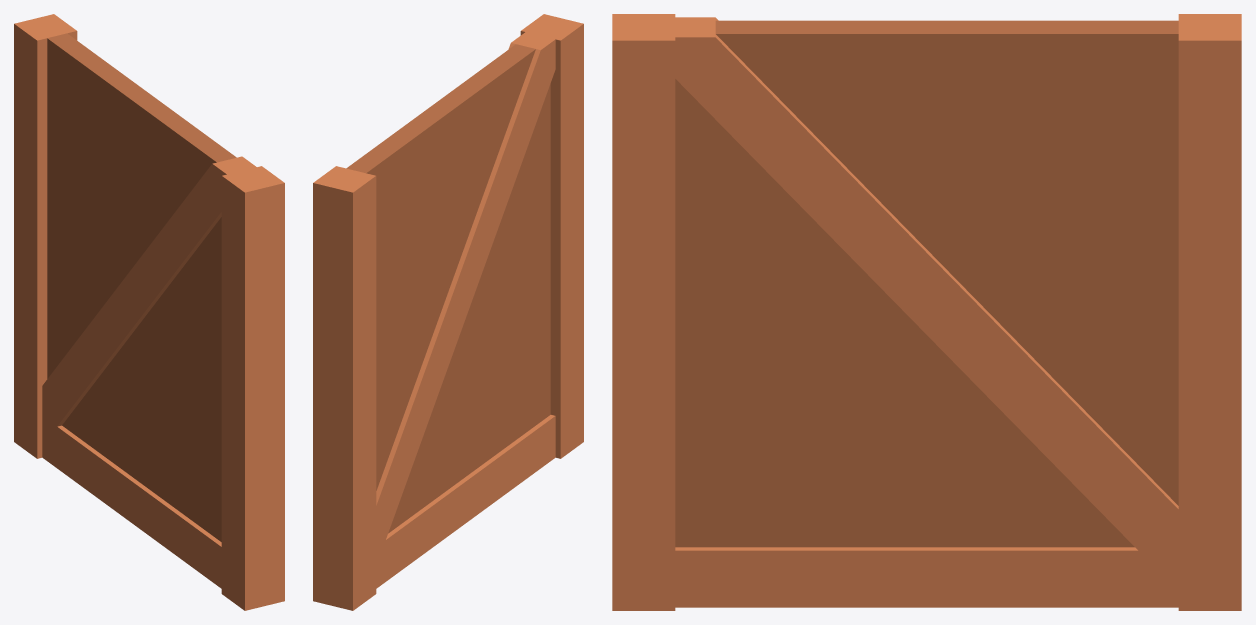
The model's file is wallWoodDetailDiagonal.obj.
The picture shows the model from 3 angles, left to right: view 1: azimuth 30°, elevation 25°; view 2: azimuth 150°, elevation 25°; view 3: azimuth 270°, elevation 25°; orthographic projection. The views are drawn at different scales.
Visible parts, largest first — view 1: wallWoodDetailDiagonal; view 2: wallWoodDetailDiagonal; view 3: wallWoodDetailDiagonal.
Part boxes in pixels (left/top/right/bottom): wallWoodDetailDiagonal: left=14, top=14, right=284, bottom=610; wallWoodDetailDiagonal: left=313, top=14, right=583, bottom=610; wallWoodDetailDiagonal: left=612, top=14, right=1241, bottom=610.
Size of the model in its own units: 0.1 by 1 by 1.
